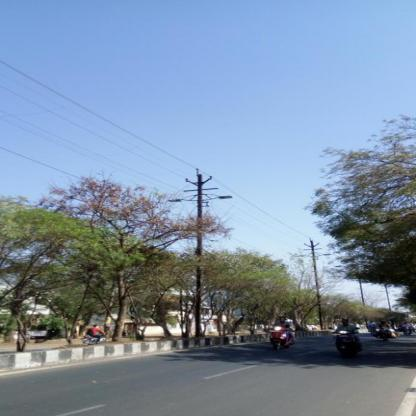Electrical Pole: (166, 164, 236, 337)
